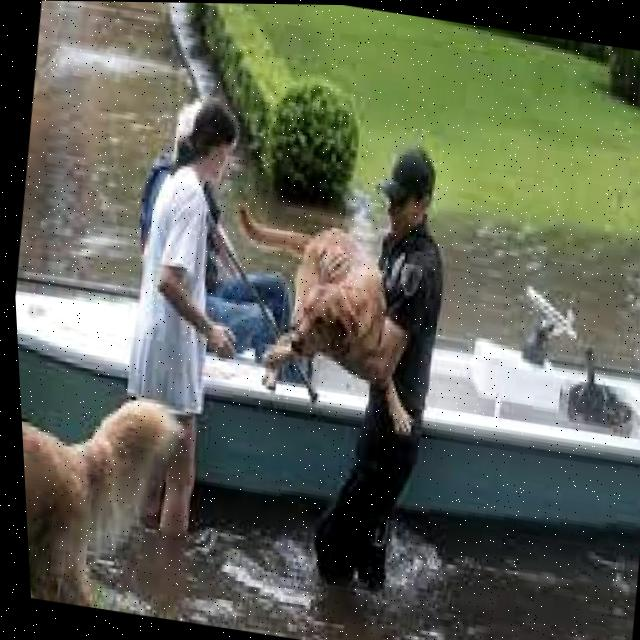civilian: (300, 131, 494, 599), (102, 82, 277, 544), (118, 90, 336, 378)
dog: (215, 194, 416, 404), (20, 384, 182, 616)
